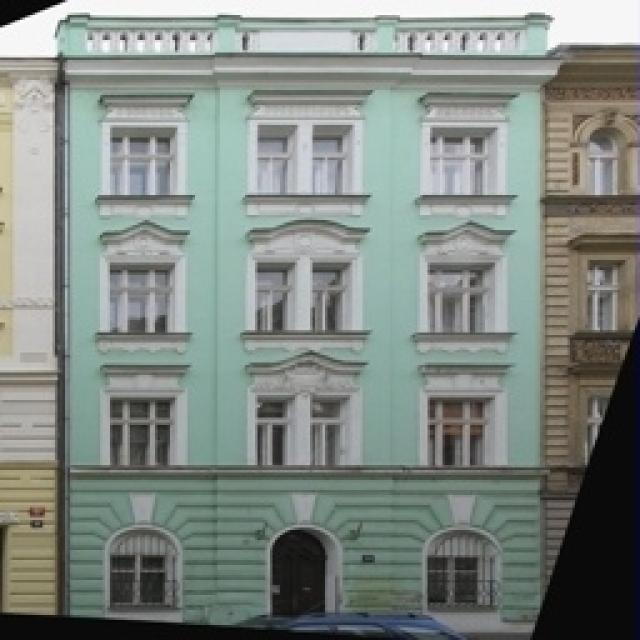building: (55, 0, 547, 630)
